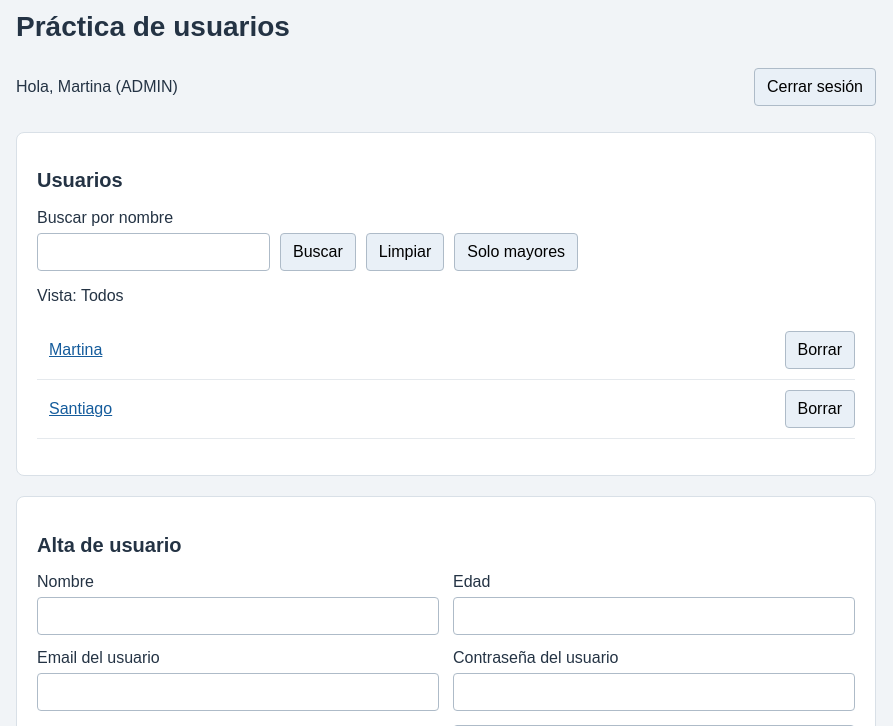
Test: busca con encodeURIComponent y limpia
Expected: the text "Hola, Martina (ADMIN)" is shown, [16, 78, 178, 96]
Expected: the button "Santiago" is shown, [37, 390, 124, 428]
Type "#" into the field labelled "Buscar por nombre".
click(154, 252); type("#")  # box [37, 233, 270, 271]
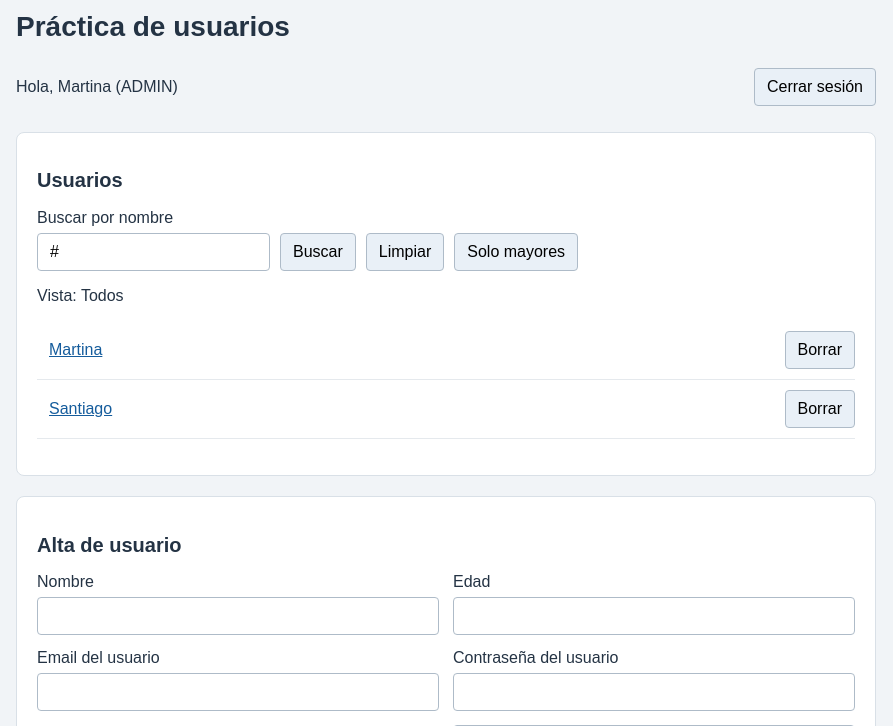
Click the button "Buscar".
click(318, 252)  # box [280, 233, 356, 271]
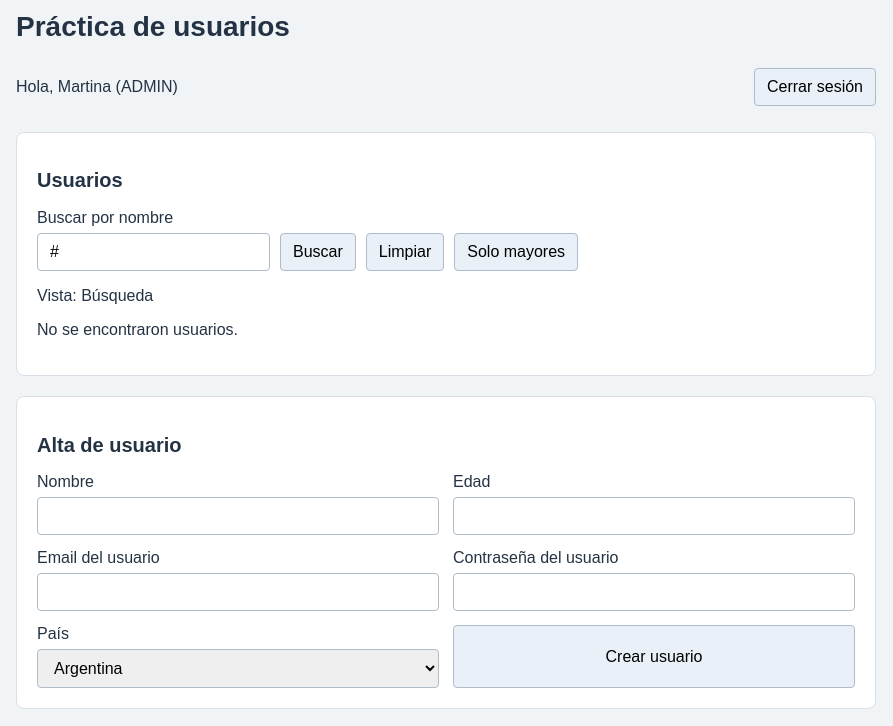
Expected: the text "No se encontraron usuarios." is shown, [37, 321, 238, 338]
Click the button "Limpiar".
click(405, 252)  # box [366, 233, 444, 271]
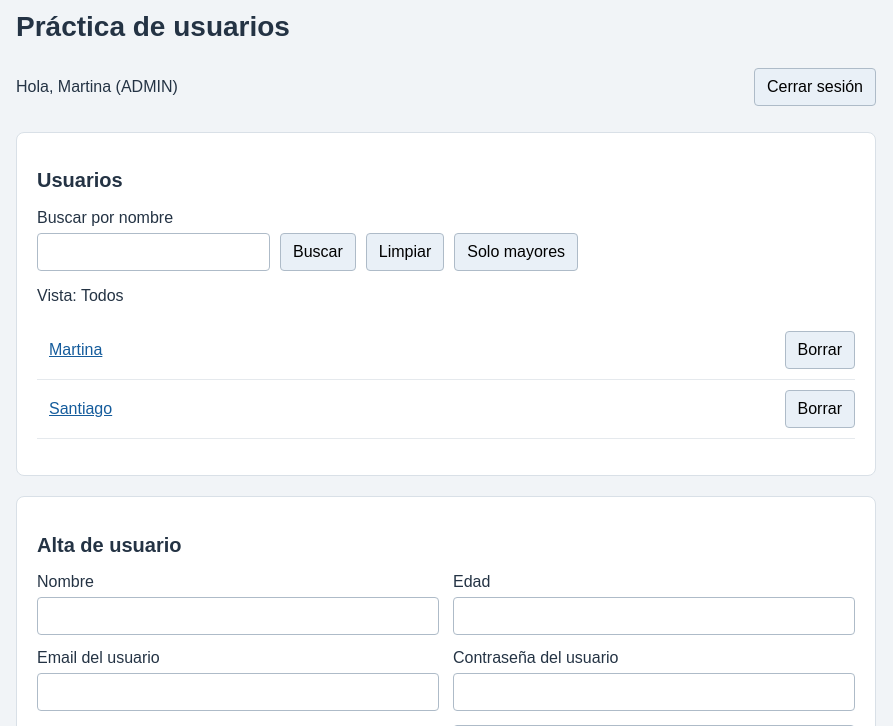
Expected: the button "Santiago" is shown, [37, 390, 124, 428]
